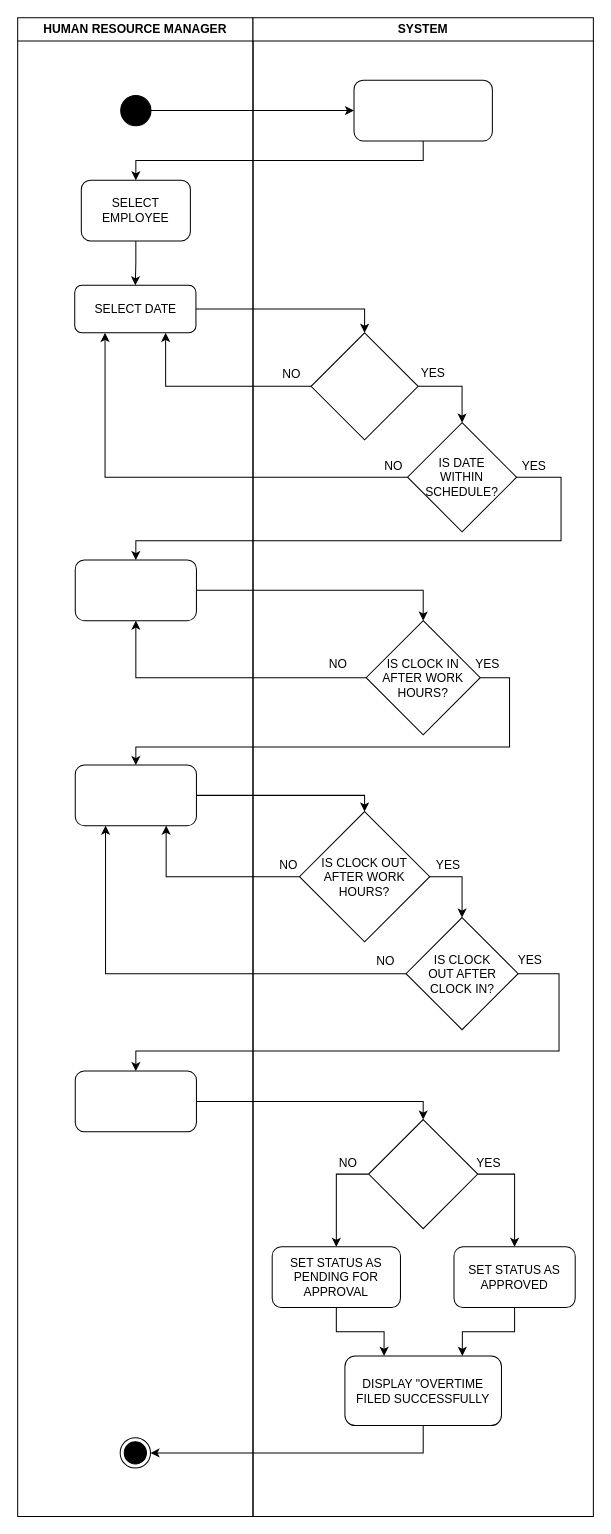
The diagram is 611 pixels wide and 1534 high, and some of its shapes have lost their labels. The shapes that lost their labels are listed below. From the top down, each one's centre as x and y in pixels, then its label:
the point at 422,110: DISPLAY OVERTIME FORM
the point at 364,386: IS DATE NOT YESTERDAY?
the point at 135,590: ENTER CLOCK IN
the point at 135,795: ENTER CLOCK OUT
the point at 135,1101: TOGGLE AUTO APPROVED
the point at 423,1174: IS AUTO APPROVED?
